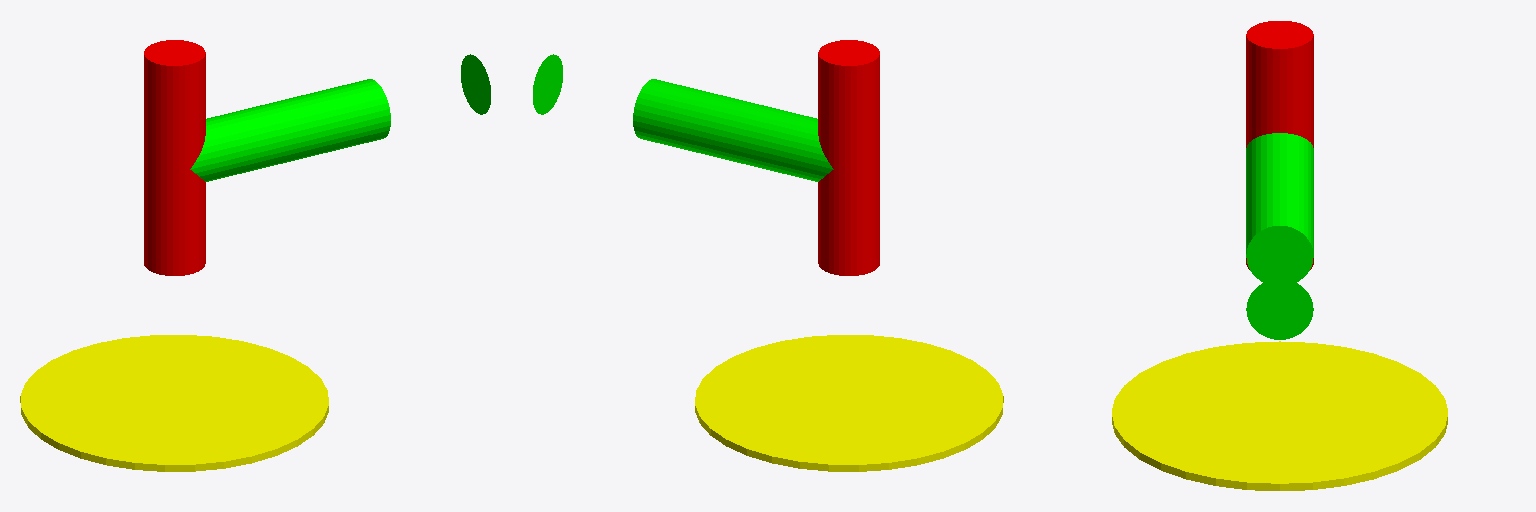
robot.urdf — simple_robot:
<robot name="simple_robot"> <!-- robot name- you decide -->
<!-- sequence : link-joint-link-joint-...-link... -->
<!-- units: meters for distance,rad in case of angles -->
<!-- first link called base_link -->
<link name= "base_link">
	<visual>
		<geometry>
			<cylinder length="0.01" radius="0.2"/>
		</geometry>
		<origin rpy="0 0 0" xyz="0 0 0"/> <!-- rpy: roll pitch yaw -> orientation xyz -> position --> 
		<material name= "base_color">
			<color rgba="1 1 0 1"/> 
		</material>
	</visual>

</link>
<!-- first joint-->
<joint name="joint1" type= "prismatic"> <!-- types: revolute and prismatic -->
	<parent link="base_link"/>
	<child link="link1"/>
	<origin xyz ="0 0 0"/>
	<axis xyz="0 0 1"/>
	<limit effort="300" velocity="0.1" lower="0.2" upper="0.5"/>
	<dynamics damping="50" friction="1"/>

</joint>
<!-- link1-->
<link name= "link1">
	<visual>
		<geometry>
			<cylinder length="0.3" radius="0.04"/>
		</geometry>
		<origin rpy="0 0 0" xyz="0 0 0"/> <!-- rpy: roll pitch yaw -> orientation xyz -> position --> 
		<material name= "link1_color">
			<color rgba="1 0 0 1"/> 
		</material>
	</visual>
</link>

<!-- second joint-->
<joint name="joint2" type= "revolute"> <!-- types: revolute and prismatic -->
	<parent link="link1"/>
	<child link="link2"/>
	<origin xyz ="0 0 0"/>
	<axis xyz="0 -1 0"/>
	<limit effort="300" velocity="0.1" lower="-3.14159" upper="3.14159"/>
	<dynamics damping="50" friction="1"/>

</joint>
<!-- link2-->
<link name= "link2">
	<visual>
		<geometry>
			<cylinder length="0.3" radius="0.04"/>
		</geometry>
		<origin rpy="0 1.5707 0" xyz="0.15 0 0"/> <!-- rpy: roll pitch yaw -> orientation xyz -> position --> 
		<material name= "link2_color">
			<color rgba="0 1 0 1"/> 
		</material>
	</visual>
</link>

<!-- third joint-->
<joint name="joint3" type= "fixed"> <!-- types: revolute and prismatic -->
	<parent link="link2"/>
	<child link="link3"/>
	<origin xyz ="0.3 0 0"/>
	<axis xyz="0 -1 0"/>
	<limit effort="300" velocity="0.1" lower="-3.14159" upper="3.14159"/>
	<dynamics damping="50" friction="1"/>

</joint>

<!-- link3-->
<link name= "link3">
	<visual>
		<geometry>
			<cylinder length="0" radius="0.04"/>
		</geometry>
		<origin rpy="0 1.5707 0" xyz="0.15 0 0"/> <!-- rpy: roll pitch yaw -> orientation xyz -> position --> 
		<material name= "link3_color">
			<color rgba="0 1 0 1"/> 
		</material>
	</visual>
</link>

</robot>

--- Render facts (derived) ---
The picture shows the robot from 3 angles, left to right: view 1: azimuth 30°, elevation 25°; view 2: azimuth 150°, elevation 25°; view 3: azimuth 270°, elevation 25°; orthographic projection.
Model simple_robot with 4 links and 3 joints (1 revolute, 1 prismatic, 1 fixed), rooted at base_link, posed all joints at 0 but 1 set to mid-range because 0 is outside their limits (joint1 = 0.35).
Visible links, largest first — view 1: base_link, link1, link2, link3; view 2: base_link, link1, link2, link3; view 3: base_link, link2, link1, link3.
Boxes of the visible links, x1=… form: base_link: x1=20, y1=335, x2=328, y2=471; link1: x1=144, y1=40, x2=205, y2=275; link2: x1=190, y1=79, x2=390, y2=181; link3: x1=461, y1=54, x2=490, y2=114; base_link: x1=695, y1=335, x2=1003, y2=471; link1: x1=818, y1=40, x2=879, y2=275; link2: x1=633, y1=79, x2=833, y2=181; link3: x1=533, y1=54, x2=562, y2=114; base_link: x1=1112, y1=341, x2=1447, y2=490; link2: x1=1246, y1=133, x2=1313, y2=282; link1: x1=1246, y1=21, x2=1313, y2=269; link3: x1=1246, y1=279, x2=1313, y2=339.
Bounding box of the posed robot: 0.65 × 0.4 × 0.505 m (x, y, z).
Geometry: primitives only (box / cylinder / sphere), no mesh files.